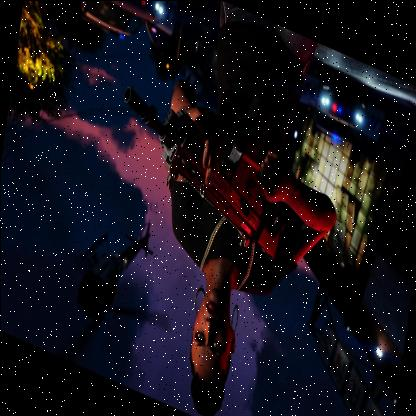rifle: (106, 39, 298, 267)
